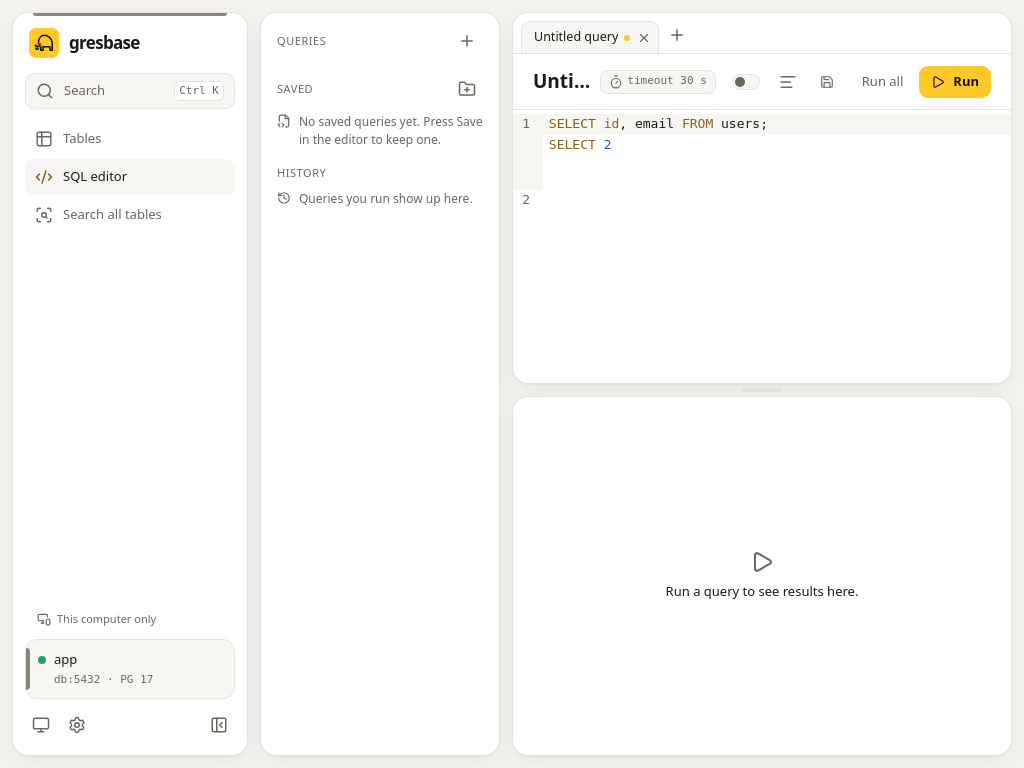
Scenario: SQL editor › runs the statement under the cursor and shows its rows
What coordinates should you click on to do the following:
click the button "Run"
I would click on:
 (955, 82)
Its box is [919, 66, 991, 98].
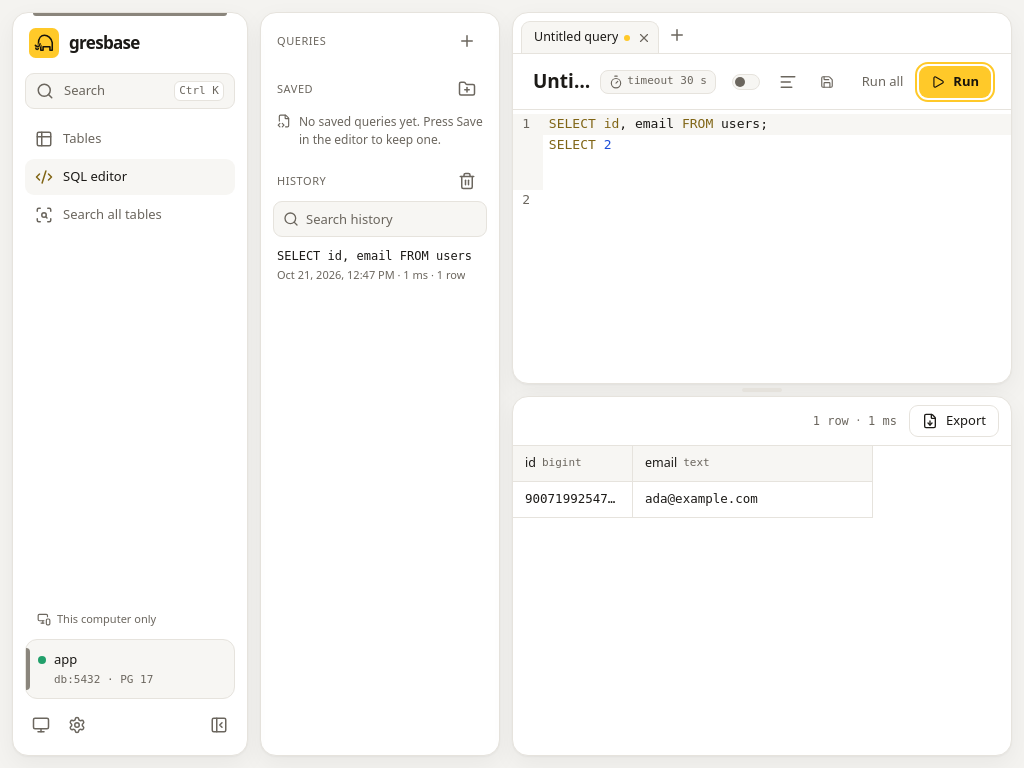
Expected: the text "ada@example.com" is shown, [645, 490, 758, 509]
Expected: the text "9007199254740993" is shown, [525, 490, 620, 509]
Expected: the text "SELECT id, email FROM users" is shown, [277, 247, 472, 265]
